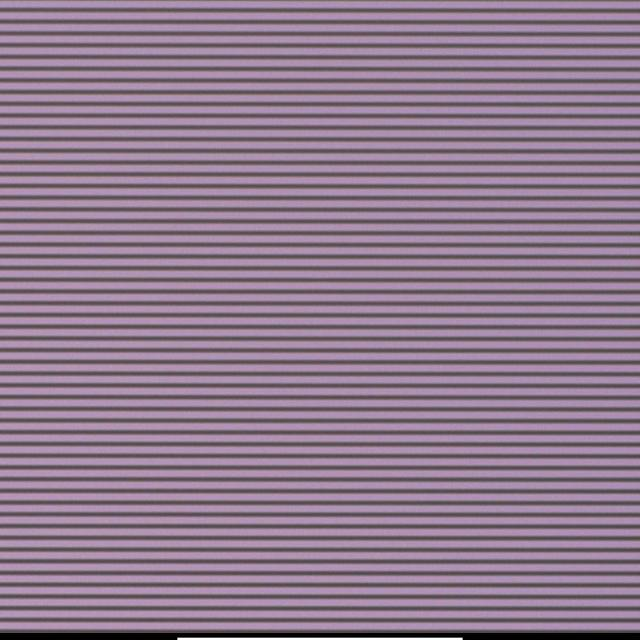03_intrusion: (310, 275, 321, 288)
